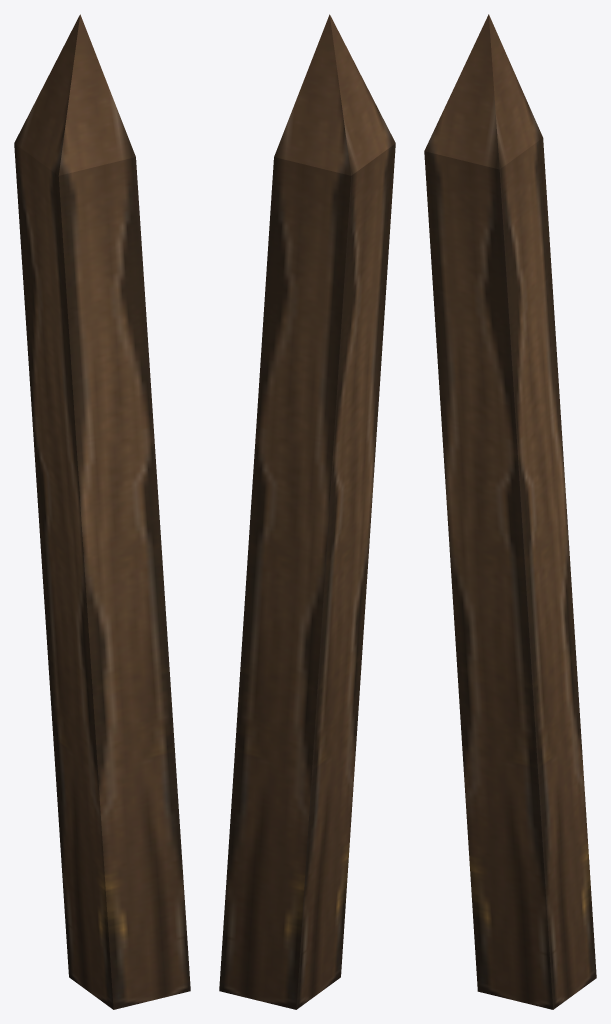
Rendered from Fence_03.FBX.
3 views of the same model, side by side, from view 1: azimuth 30°, elevation 25°; view 2: azimuth 150°, elevation 25°; view 3: azimuth 330°, elevation 25° (orthographic). The views are drawn at different scales.
Visible parts, largest first — view 1: Fence_03; view 2: Fence_03; view 3: Fence_03.
Boxes of the visible parts, left/top/right/bottom form: Fence_03: left=14, top=14, right=190, bottom=1009; Fence_03: left=219, top=14, right=395, bottom=1009; Fence_03: left=424, top=14, right=596, bottom=1009.
Bounding box in the file's own units: 0.1701 × 0.0995 × 1.21.
